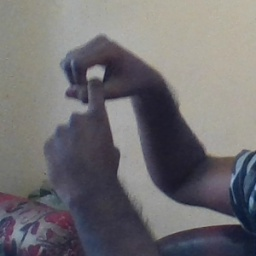Q: (39, 32, 149, 179)
